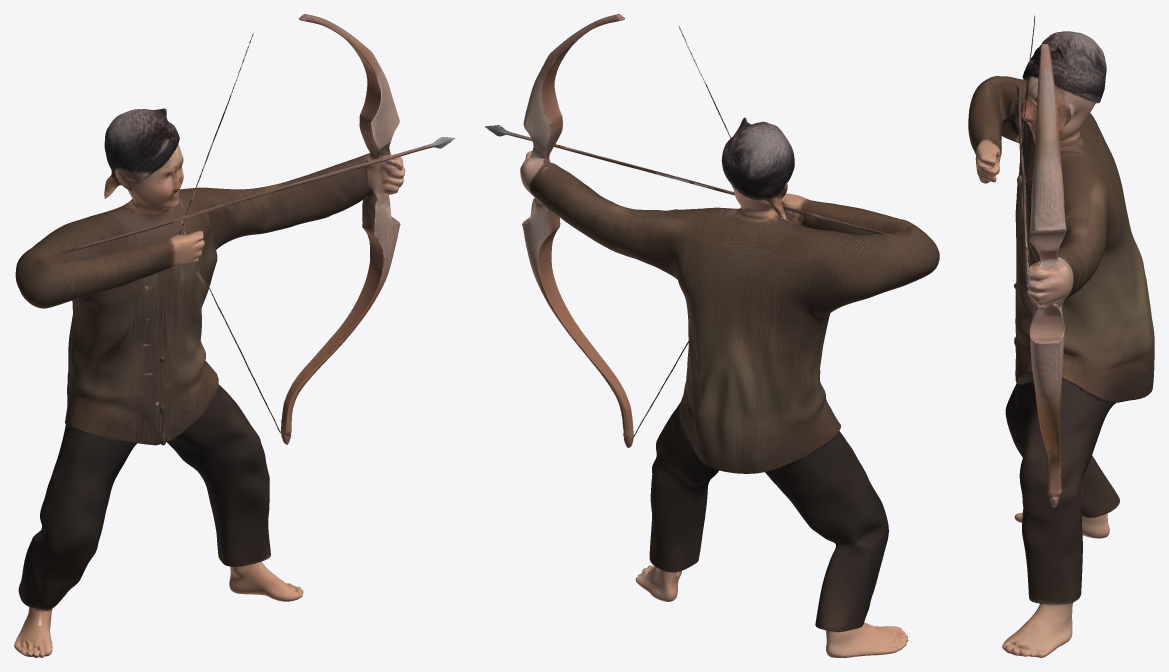
The model's file is base_basic_pbr.glb.
3 renders of one model, left to right at view 1: azimuth 30°, elevation 25°; view 2: azimuth 150°, elevation 25°; view 3: azimuth 270°, elevation 25°, orthographic. The views are drawn at different scales.
Visible parts, largest first — view 1: model; view 2: model; view 3: model.
Part boxes in pixels (x1,y1,x2,y2): model: [14, 14, 455, 657]; model: [484, 14, 939, 657]; model: [968, 15, 1154, 657].
Bounding box in the file's own units: 1.55 × 1.9 × 0.5144.
Materials: 1 (1 with a texture image).
